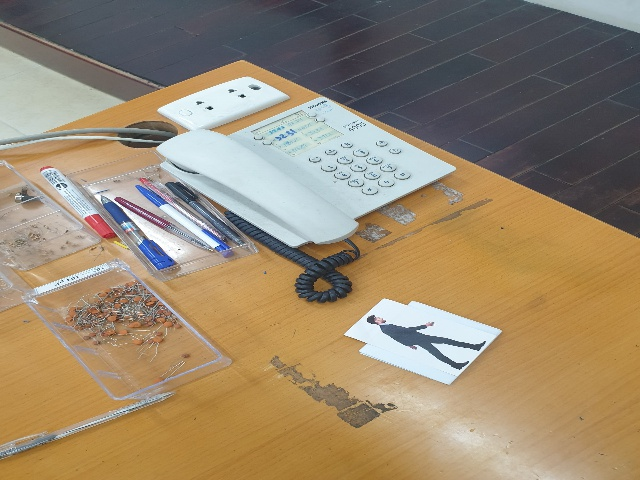Person: (359, 309, 488, 374)
